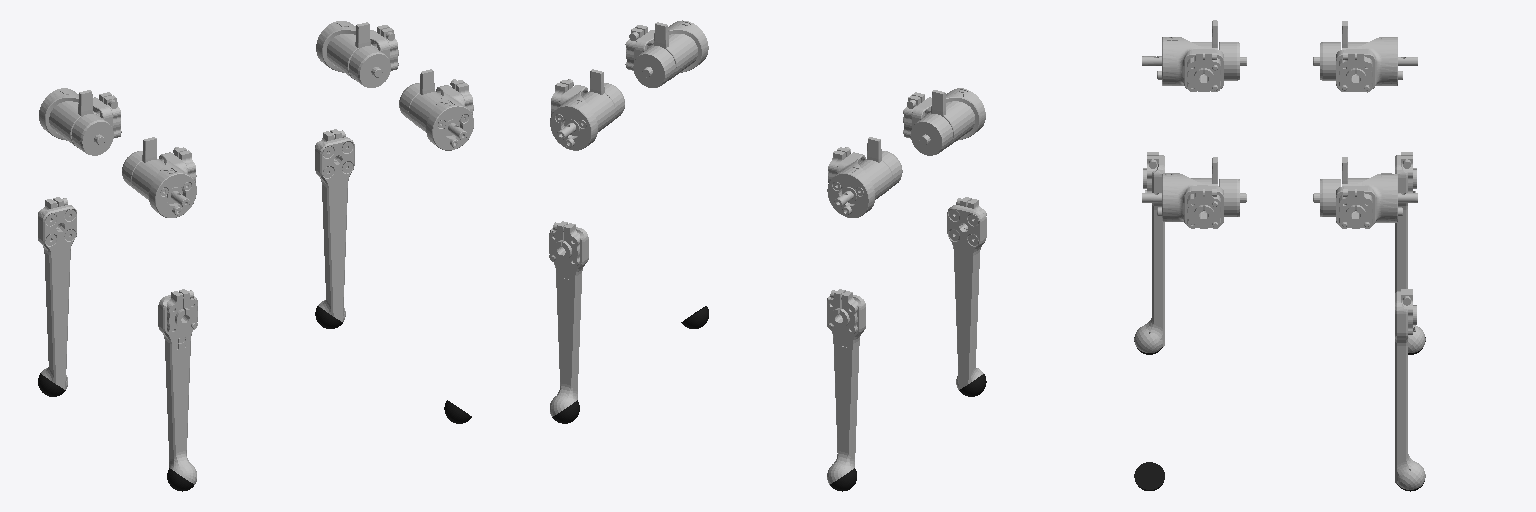
--- Facts derived from the render (not from the file) ---
The picture shows the robot from 3 angles, left to right: view 1: azimuth 30°, elevation 25°; view 2: azimuth 150°, elevation 25°; view 3: azimuth 270°, elevation 25°; orthographic projection.
Model pupperv2_description with 25 links and 24 joints (12 revolute, 12 fixed), rooted at base_link, posed all joints at 0.
Links seen in each view (by area): view 1: RR_lower_leg, FL_lower_leg, RL_lower_leg, RL_hip, FL_hip, FR_hip, RR_hip; view 2: FL_lower_leg, RR_lower_leg, RL_lower_leg, FR_hip, RR_hip, RL_hip, FL_hip; view 3: FL_hip, FR_hip, RR_hip, RL_hip, FL_lower_leg, RR_lower_leg, RL_lower_leg, FR_toe.
Boxes of the visible links, x1,y1,x2,y2 form: RR_lower_leg: (158, 289, 197, 484); FL_lower_leg: (315, 129, 354, 321); RL_lower_leg: (38, 197, 76, 389); RL_hip: (39, 88, 121, 155); FL_hip: (316, 21, 398, 87); FR_hip: (399, 69, 473, 150); RR_hip: (122, 137, 196, 217); FL_lower_leg: (549, 221, 588, 416); RR_lower_leg: (947, 197, 986, 389); RL_lower_leg: (827, 289, 865, 484); FR_hip: (625, 20, 708, 87); RR_hip: (903, 88, 985, 155); RL_hip: (827, 137, 902, 217); FL_hip: (550, 69, 624, 150); FL_hip: (1313, 157, 1417, 228); FR_hip: (1142, 157, 1246, 228); RR_hip: (1142, 20, 1246, 91); RL_hip: (1313, 21, 1417, 92); FL_lower_leg: (1395, 289, 1425, 489); RR_lower_leg: (1134, 152, 1164, 352); RL_lower_leg: (1395, 152, 1425, 352); FR_toe: (1134, 462, 1164, 490).
Bounding box of the posed robot: 0.2413 × 0.1804 × 0.2255 m (x, y, z).
Meshes: 19 distinct files referenced, 11 mesh visuals loaded (11 binary STL); not drawn: 8 (reference not matched to a file when rendering).

The robot description file, URDF, robot "pupperv2_description":
<?xml version="1.0" encoding="utf-8"?>
<!-- =================================================================================== -->
<!-- |    This document was autogenerated by xacro from pupperv2_description.urdf.xacro | -->
<!-- |    EDITING THIS FILE BY HAND IS NOT RECOMMENDED                                 | -->
<!-- =================================================================================== -->
<!-- This URDF was automatically created by SolidWorks to URDF Exporter! Originally created by Stephen Brawner ([email redacted]) 
     Commit Version: 1.5.1-0-g916b5db  Build Version: 1.5.7152.31018
     For more information, please see http://wiki.ros.org/sw_urdf_exporter -->
<robot name="pupperv2_description">
  <!-- Enable Gazebo ROS Control -->
  <gazebo>
    <plugin filename="libgazebo_ros_control.so" name="gazebo_ros_control">
      <legacyModeNS>true</legacyModeNS>
      <robotSimType>gazebo_ros_control/DefaultRobotHWSim</robotSimType>
    </plugin>
  </gazebo>
  <joint name="hokuyo_joint" type="fixed">
    <origin rpy="0 0 0" xyz="0.0 0.0 0.08661"/>
    <parent link="base_link"/>
    <child link="hokuyo_frame"/>
  </joint>
  <link name="hokuyo_frame">
    <inertial>
      <mass value="0.027"/>
      <origin rpy="0 0 0" xyz="0 0 0"/>
      <inertia ixx="2.632e-05" ixy="0" ixz="0" iyy="2.632e-05" iyz="0" izz="1.62e-05"/>
    </inertial>
    <visual>
      <origin rpy="0 0 0" xyz="0 0 0"/>
      <geometry>
        <mesh filename="package://hector_sensors_description/meshes/hokuyo_utm30lx/hokuyo_utm_30lx.dae"/>
      </geometry>
    </visual>
    <collision>
      <origin rpy="0 0 0" xyz="0 0 -0.0115"/>
      <geometry>
        <box size="0.058 0.058 0.087"/>
        <!--<mesh filename="package://hector_sensors_description/meshes/hokuyo_utm30lx/hokuyo_utm_30lx.stl"/>-->
      </geometry>
    </collision>
  </link>
  <gazebo reference="hokuyo_frame">
    <sensor name="hokuyo" type="ray">
      <always_on>true</always_on>
      <update_rate>30</update_rate>
      <pose>0 0 0 0 0 0</pose>
      <visualize>false</visualize>
      <ray>
        <scan>
          <horizontal>
            <samples>1040</samples>
            <resolution>1</resolution>
            <min_angle>2.26892802759</min_angle>
            <max_angle>-2.26892802759</max_angle>
          </horizontal>
        </scan>
        <range>
          <min>0.2</min>
          <max>30.0</max>
          <resolution>0.01</resolution>
        </range>
        <noise>
          <type>gaussian</type>
          <mean>0.0</mean>
          <stddev>0.004</stddev>
        </noise>
      </ray>
      <plugin filename="libgazebo_ros_laser.so" name="gazebo_ros_hokuyo_controller">
        <topicName>scan</topicName>
        <frameName>hokuyo_frame</frameName>
      </plugin>
    </sensor>
  </gazebo>
  <joint name="camera_joint" type="fixed">
    <origin rpy="0 0 0" xyz="0.13641 0.0 -0.05661"/>
    <parent link="base_link"/>
    <child link="camera_link"/>
  </joint>
  <link name="camera_link">
    <inertial>
      <mass value="0.02"/>
      <origin rpy="0 0 0" xyz="0 0 0"/>
      <inertia ixx="5.8083e-05" ixy="0" ixz="0" iyy="3.0833e-06" iyz="0" izz="5.9083e-05"/>
    </inertial>
    <visual>
      <origin rpy="0 0 0" xyz="0 0 0"/>
      <geometry>
        <mesh filename="package://hector_sensors_description/meshes/asus_camera/asus_camera_simple.dae"/>
      </geometry>
    </visual>
    <!--        
       <collision>
          <origin xyz="0 0 0" rpy="0 0 0" />
          <geometry>
            <box size="0.035 0.185 0.025"/>
          </geometry>
        </collision>
        -->
    <collision>
      <origin rpy="0 0 0" xyz="0 0 0"/>
      <geometry>
        <mesh filename="package://hector_sensors_description/meshes/asus_camera/asus_camera_simple.dae"/>
      </geometry>
    </collision>
  </link>
  <joint name="camera_depth_joint" type="fixed">
    <origin rpy="0 0 0" xyz="0.0 0.049 0.0"/>
    <parent link="camera_link"/>
    <child link="camera_depth_frame"/>
  </joint>
  <link name="camera_depth_frame"/>
  <joint name="camera_depth_optical_joint" type="fixed">
    <origin rpy="-1.57079632679 0.0 -1.57079632679" xyz="0 0 0"/>
    <parent link="camera_depth_frame"/>
    <child link="camera_depth_optical_frame"/>
  </joint>
  <link name="camera_depth_optical_frame"/>
  <joint name="camera_rgb_joint" type="fixed">
    <origin rpy="0 0 0" xyz="0.0 0.022 0.0"/>
    <parent link="camera_link"/>
    <child link="camera_rgb_frame"/>
  </joint>
  <link name="camera_rgb_frame"/>
  <joint name="camera_rgb_optical_joint" type="fixed">
    <origin rpy="-1.57079632679 0.0 -1.57079632679" xyz="0 0 0"/>
    <parent link="camera_rgb_frame"/>
    <child link="camera_rgb_optical_frame"/>
  </joint>
  <link name="camera_rgb_optical_frame"/>
  <!-- ASUS Xtion PRO camera for simulation -->
  <gazebo reference="camera_depth_frame">
    <sensor name="camera" type="depth">
      <update_rate>20</update_rate>
      <camera>
        <horizontal_fov>1.09606677025</horizontal_fov>
        <image>
          <format>R8G8B8</format>
          <width>640</width>
          <height>480</height>
        </image>
        <clip>
          <near>0.5</near>
          <far>9</far>
        </clip>
      </camera>
      <plugin filename="libgazebo_ros_openni_kinect.so" name="camera_camera_controller">
        <imageTopicName>camera/rgb/image_raw</imageTopicName>
        <cameraInfoTopicName>camera/rgb/camera_info</cameraInfoTopicName>
        <depthImageTopicName>camera/depth/image_raw</depthImageTopicName>
        <depthImageCameraInfoTopicName>camera/depth/camera_info</depthImageCameraInfoTopicName>
        <pointCloudTopicName>camera/depth/points</pointCloudTopicName>
        <frameName>camera_depth_optical_frame</frameName>
      </plugin>
    </sensor>
  </gazebo>
  <gazebo>
    <plugin filename="libhector_gazebo_ros_imu.so" name="imu_controller">
      <updateRate>50.0</updateRate>
      <bodyName>imu_link</bodyName>
      <topicName>imu/data</topicName>
      <accelDrift>0.005 0.005 0.005</accelDrift>
      <accelGaussianNoise>0.005 0.005 0.005</accelGaussianNoise>
      <rateDrift>0.005 0.005 0.005 </rateDrift>
      <rateGaussianNoise>0.005 0.005 0.005 </rateGaussianNoise>
      <headingDrift>0.005</headingDrift>
      <headingGaussianNoise>0.005</headingGaussianNoise>
    </plugin>
  </gazebo>
  <link name="imu_link">
    <inertial>
      <mass value="0.001"/>
      <origin rpy="0 0 0" xyz="0 0 0"/>
      <inertia ixx="1e-09" ixy="0.0" ixz="0.0" iyy="1e-09" iyz="0.0" izz="1e-09"/>
    </inertial>
  </link>
  <joint name="imu_joint" type="fixed">
    <parent link="base_link"/>
    <child link="imu_link"/>
  </joint>
  <!-- <xacro:include filename="$(find velodyne_description)/urdf/VLP-16.urdf.xacro"/>
        <xacro:VLP-16 parent="${base_name}" name="velodyne" topic="velodyne_points" hz="10" samples="1024" gpu="false" lasers="16" max_range="100">
            <origin xyz="0 0 ${base_height / 2}" rpy="0 0 0" />
        </xacro:VLP-16>
        <xacro:include filename="$(find champ_arm_description)/urdf/champ_arm.urdf.xacro" />
        <xacro:champ_arm parent="${base_name}">
            <origin xyz="0.07 0.0 ${base_height / 2}" rpy="0 0 0"/>
        </xacro:champ_arm> -->
  <gazebo>
    <plugin filename="libgazebo_ros_p3d.so" name="p3d_base_controller">
      <alwaysOn>true</alwaysOn>
      <updateRate>10.0</updateRate>
      <bodyName>base_link</bodyName>
      <topicName>odom/ground_truth</topicName>
      <gaussianNoise>0.01</gaussianNoise>
      <frameName>world</frameName>
      <xyzOffsets>0 0 0</xyzOffsets>
      <rpyOffsets>0 0 0</rpyOffsets>
    </plugin>
  </gazebo>
  <!-- Solidworks to URDF (Mostly) -->
  <link name="base_link">
    <visual>
      <origin rpy="0 0 0" xyz="0 0 0"/>
      <geometry>
        <mesh filename="package://pupperv2_description/obj_meshes/Body_Assembly_v3.obj"/>
      </geometry>
      <material name="">
        <color rgba="0.75294 0.75294 0.75294 1"/>
      </material>
    </visual>
    <collision>
      <origin rpy="0 0 0" xyz="0 0 0"/>
      <geometry>
        <mesh filename="package://pupperv2_description/obj_meshes/Body_Assembly_v3.obj"/>
      </geometry>
    </collision>
  </link>
  <link name="base_inertia">
    <inertial>
      <origin rpy="0 0 0" xyz="4.4516E-07 -2.0991E-07 3.7751E-06"/>
      <mass value="0.9839499387"/>
      <inertia ixx="0.0010122485175" ixy="3.099529761e-06" ixz="-2.411383509e-06" iyy="0.0022399212714" iyz="4.508976504e-07" izz="0.002633020902"/>
    </inertial>
  </link>
  <joint name="base_link_base_inertia" type="fixed">
    <parent link="base_link"/>
    <child link="base_inertia"/>
  </joint>
  <link name="FL_hip">
    <inertial>
      <origin rpy="0 0 0" xyz="0.01877 0.0032945 0.00038989"/>
      <mass value="0.1082783"/>
      <inertia ixx="2.0257354e-05" ixy="1.5145104e-06" ixz="8.237398e-10" iyy="9.983844e-06" iyz="2.0954648e-07" izz="1.9359964e-05"/>
    </inertial>
    <visual>
      <origin rpy="0 0 0" xyz="0 0 0"/>
      <geometry>
        <mesh filename="package://pupperv2_description/meshes/FL_hip.STL"/>
      </geometry>
      <material name="">
        <color rgba="0.75294 0.75294 0.75294 1"/>
      </material>
    </visual>
    <collision>
      <origin rpy="0 0 0" xyz="0 0 0"/>
      <geometry>
        <mesh filename="package://pupperv2_description/meshes/FL_hip.STL"/>
      </geometry>
    </collision>
  </link>
  <joint name="base_link_FL_hip" type="revolute">
    <origin rpy="0 0 0" xyz="0.036007 0.0466 0.00461"/>
    <parent link="base_link"/>
    <child link="FL_hip"/>
    <axis xyz="1 0 0"/>
    <limit effort="100" lower="-0.7854" upper="0.7854" velocity="2.5"/>
  </joint>
  <link name="FL_upper_leg">
    <inertial>
      <origin rpy="0 0 0" xyz="0.00011578 0.025203 -0.048064"/>
      <mass value="0.1419999906"/>
      <inertia ixx="6.334604904e-05" ixy="4.36923048e-10" ixz="6.769709604e-07" iyy="6.088088868e-05" iyz="7.049215668e-07" izz="1.7320803756e-05"/>
    </inertial>
    <visual>
      <origin rpy="0 0 0" xyz="0 0 0"/>
      <geometry>
        <mesh filename="package://pupperv2_description/meshes/FL_upper_leg.STL"/>
      </geometry>
      <material name="">
        <color rgba="0.75294 0.75294 0.75294 1"/>
      </material>
    </visual>
    <collision>
      <origin rpy="0 0 0" xyz="0 0 0"/>
      <geometry>
        <mesh filename="package://pupperv2_description/meshes/FL_upper_leg.STL"/>
      </geometry>
    </collision>
  </link>
  <joint name="FL_hip_FL_upper_leg" type="revolute">
    <origin rpy="0 0 0" xyz="0.01525 0.02535 0"/>
    <parent link="FL_hip"/>
    <child link="FL_upper_leg"/>
    <axis xyz="0 1 0"/>
    <limit effort="100" lower="-1.309" upper="4.4506" velocity="2.5"/>
  </joint>
  <link name="FL_lower_leg">
    <inertial>
      <origin rpy="0 0 0" xyz="0.00028051 0.0039614 -0.040452"/>
      <mass value="0.038000014"/>
      <inertia ixx="4.1639087e-05" ixy="-4.5084955e-08" ixz="5.3308669e-07" iyy="4.2155058e-05" iyz="1.53713898e-06" izz="1.25655986e-06"/>
    </inertial>
    <visual>
      <origin rpy="0 0 0" xyz="0 0 0"/>
      <geometry>
        <mesh filename="package://pupperv2_description/meshes/FL_lower_leg.STL"/>
      </geometry>
      <material name="">
        <color rgba="0.75294 0.75294 0.75294 1"/>
      </material>
    </visual>
    <collision>
      <origin rpy="0 0 0" xyz="0 0 0"/>
      <geometry>
        <mesh filename="package://pupperv2_description/meshes/FL_lower_leg.STL"/>
      </geometry>
    </collision>
  </link>
  <joint name="FL_upper_leg_FL_lower_leg" type="revolute">
    <origin rpy="0 0 0" xyz="0 0 -0.08"/>
    <parent link="FL_upper_leg"/>
    <child link="FL_lower_leg"/>
    <axis xyz="0 1 0"/>
    <limit effort="100" lower="-2.8798" upper="2.8798" velocity="2.5"/>
  </joint>
  <link name="FL_toe">
    <inertial>
      <origin rpy="0 0 0" xyz="-0.002296 2.7756E-17 -0.0027362"/>
      <mass value="0.00010000005183"/>
      <inertia ixx="2.8803263727e-09" ixy="-1.0985142994e-25" ixz="6.28211829e-10" iyy="2.353169903e-09" iyz="-5.2203463711e-26" izz="3.1018856897e-09"/>
    </inertial>
    <visual>
      <origin rpy="0 0 0" xyz="0 0 0"/>
      <geometry>
        <mesh filename="package://pupperv2_description/meshes/FL_toe.STL"/>
      </geometry>
      <material name="">
        <color rgba="0.15294 0.15294 0.15294 1"/>
      </material>
    </visual>
    <collision>
      <origin rpy="0 0 0" xyz="0 0 0"/>
      <geometry>
        <mesh filename="package://pupperv2_description/meshes/FL_toe.STL"/>
      </geometry>
    </collision>
  </link>
  <joint name="FL_lower_leg_FL_toe" type="fixed">
    <origin rpy="0 0 0" xyz="0 0.008325 -0.11"/>
    <parent link="FL_lower_leg"/>
    <child link="FL_toe"/>
    <axis xyz="0.64279 0 0.76604"/>
  </joint>
  <link name="RL_hip">
    <inertial>
      <origin rpy="0 0 0" xyz="-0.022505 0.0032945 0.00038989"/>
      <mass value="0.1082783"/>
      <inertia ixx="2.0257354e-05" ixy="1.5145104e-06" ixz="8.237398e-10" iyy="9.983844e-06" iyz="2.0954648e-07" izz="1.9359964e-05"/>
    </inertial>
    <visual>
      <origin rpy="0 0 0" xyz="0 0 0"/>
      <geometry>
        <mesh filename="package://pupperv2_description/meshes/RL_hip.STL"/>
      </geometry>
      <material name="">
        <color rgba="0.75294 0.75294 0.75294 1"/>
      </material>
    </visual>
    <collision>
      <origin rpy="0 0 0" xyz="0 0 0"/>
      <geometry>
        <mesh filename="package://pupperv2_description/meshes/RL_hip.STL"/>
      </geometry>
    </collision>
  </link>
  <joint name="base_link_RL_hip" type="revolute">
    <origin rpy="0 0 0" xyz="-0.12272 0.0466 0.00461"/>
    <parent link="base_link"/>
    <child link="RL_hip"/>
    <axis xyz="1 0 0"/>
    <limit effort="100" lower="-0.7854" upper="0.7854" velocity="2.5"/>
  </joint>
  <link name="RL_upper_leg">
    <inertial>
      <origin rpy="0 0 0" xyz="0.00011578 0.025203 -0.048064"/>
      <mass value="0.1419999906"/>
      <inertia ixx="6.334604904e-05" ixy="4.36923048e-10" ixz="6.769709604e-07" iyy="6.088088868e-05" iyz="7.049215668e-07" izz="1.7320803756e-05"/>
    </inertial>
    <visual>
      <origin rpy="0 0 0" xyz="0 0 0"/>
      <geometry>
        <mesh filename="package://pupperv2_description/meshes/RL_upper_leg.STL"/>
      </geometry>
      <material name="">
        <color rgba="0.75294 0.75294 0.75294 1"/>
      </material>
    </visual>
    <collision>
      <origin rpy="0 0 0" xyz="0 0 0"/>
      <geometry>
        <mesh filename="package://pupperv2_description/meshes/RL_upper_leg.STL"/>
      </geometry>
    </collision>
  </link>
  <joint name="RL_hip_RL_upper_leg" type="revolute">
    <origin rpy="0 0.0011305 0" xyz="-0.026025 0.02535 0"/>
    <parent link="RL_hip"/>
    <child link="RL_upper_leg"/>
    <axis xyz="0 1 0"/>
    <limit effort="100" lower="-1.309" upper="4.4506" velocity="2.5"/>
  </joint>
  <link name="RL_lower_leg">
    <inertial>
      <origin rpy="0 0 0" xyz="0.00028051 0.0039614 -0.040452"/>
      <mass value="0.038000014"/>
      <inertia ixx="4.1639087e-05" ixy="-4.5084955e-08" ixz="5.3308669e-07" iyy="4.2155058e-05" iyz="1.53713898e-06" izz="1.25655986e-06"/>
    </inertial>
    <visual>
      <origin rpy="0 0 0" xyz="0 0 0"/>
      <geometry>
        <mesh filename="package://pupperv2_description/meshes/RL_lower_leg.STL"/>
      </geometry>
      <material name="">
        <color rgba="0.75294 0.75294 0.75294 1"/>
      </material>
    </visual>
    <collision>
      <origin rpy="0 0 0" xyz="0 0 0"/>
      <geometry>
        <mesh filename="package://pupperv2_description/meshes/RL_lower_leg.STL"/>
      </geometry>
    </collision>
  </link>
  <joint name="RL_upper_leg_RL_lower_leg" type="revolute">
    <origin rpy="0 -0.0011305 0" xyz="0 0 -0.08"/>
    <parent link="RL_upper_leg"/>
    <child link="RL_lower_leg"/>
    <axis xyz="0 1 0"/>
    <limit effort="100" lower="-2.8798" upper="2.8798" velocity="2.5"/>
  </joint>
  <link name="RL_toe">
    <inertial>
      <origin rpy="0 0 0" xyz="-0.002296 0 -0.0027362"/>
      <mass value="0.00010000005183"/>
      <inertia ixx="2.8803263727e-09" ixy="-5.97823394e-26" ixz="6.28211829e-10" iyy="2.353169903e-09" iyz="-5.1293468212e-26" izz="3.1018856897e-09"/>
    </inertial>
    <visual>
      <origin rpy="0 0 0" xyz="0 0 0"/>
      <geometry>
        <mesh filename="package://pupperv2_description/meshes/RL_toe.STL"/>
      </geometry>
      <material name="">
        <color rgba="0.15294 0.15294 0.15294 1"/>
      </material>
    </visual>
    <collision>
      <origin rpy="0 0 0" xyz="0 0 0"/>
      <geometry>
        <mesh filename="package://pupperv2_description/meshes/RL_toe.STL"/>
      </geometry>
    </collision>
  </link>
  <joint name="RL_lower_leg_RL_toe" type="fixed">
    <origin rpy="0 0 0" xyz="0 0.008325 -0.11"/>
    <parent link="RL_lower_leg"/>
    <child link="RL_toe"/>
    <axis xyz="0.64279 0 0.76604"/>
  </joint>
  <link name="FR_hip">
    <inertial>
      <origin rpy="0 0 0" xyz="0.018798 -0.0032741 0.00039709"/>
      <mass value="0.10839322"/>
      <inertia ixx="2.0250256e-05" ixy="-1.5113332e-06" ixz="6.264492e-10" iyy="9.98452e-06" iyz="-2.1263242e-07" izz="1.936571e-05"/>
    </inertial>
    <visual>
      <origin rpy="0 0 0" xyz="0 0 0"/>
      <geometry>
        <mesh filename="package://pupperv2_description/meshes/FR_hip.STL"/>
      </geometry>
      <material name="">
        <color rgba="0.75294 0.75294 0.75294 1"/>
      </material>
    </visual>
    <collision>
      <origin rpy="0 0 0" xyz="0 0 0"/>
      <geometry>
        <mesh filename="package://pupperv2_description/meshes/FR_hip.STL"/>
      </geometry>
    </collision>
  </link>
  <joint name="base_link_FR_hip" type="revolute">
    <origin rpy="0 0 0" xyz="0.035885 -0.0474 0.00461"/>
    <parent link="base_link"/>
    <child link="FR_hip"/>
    <axis xyz="1 0 0"/>
    <limit effort="100" lower="-0.7854" upper="0.7854" velocity="2.5"/>
  </joint>
  <link name="FR_upper_leg">
    <inertial>
      <origin rpy="0 0 0" xyz="-0.00011578 -0.025203 -0.048064"/>
      <mass value="0.1419999906"/>
      <inertia ixx="6.334604904e-05" ixy="4.36923048e-10" ixz="-6.769709604e-07" iyy="6.088088868e-05" iyz="-7.049215668e-07" izz="1.7320803756e-05"/>
    </inertial>
    <visual>
      <origin rpy="0 0 0" xyz="0 0 0"/>
      <geometry>
        <mesh filename="package://pupperv2_description/meshes/FR_upper_leg.STL"/>
      </geometry>
      <material name="">
        <color rgba="0.75294 0.75294 0.75294 1"/>
      </material>
    </visual>
    <collision>
      <origin rpy="0 0 0" xyz="0 0 0"/>
      <geometry>
        <mesh filename="package://pupperv2_description/meshes/FR_upper_leg.STL"/>
      </geometry>
    </collision>
  </link>
  <joint name="FR_hip_FR_upper_leg" type="revolute">
    <origin rpy="0 0 0" xyz="0.015252 -0.02535 0"/>
    <parent link="FR_hip"/>
    <child link="FR_upper_leg"/>
    <axis xyz="0 1 0"/>
    <limit effort="100" lower="-4.4506" upper="1.309" velocity="2.5"/>
  </joint>
  <link name="FR_lower_leg">
    <inertial>
      <origin rpy="0 0 0" xyz="0.00028375 -0.0039771 -0.040393"/>
      <mass value="0.038052293"/>
      <inertia ixx="4.1625449e-05" ixy="4.5137234e-08" ixz="5.3258663e-07" iyy="4.214142e-05" iyz="-1.5385937e-06" izz="1.25771909e-06"/>
    </inertial>
    <visual>
      <origin rpy="0 0 0" xyz="0 0 0"/>
      <geometry>
        <mesh filename="package://pupperv2_description/meshes/FR_lower_leg.STL"/>
      </geometry>
      <material name="">
        <color rgba="0.75294 0.75294 0.75294 1"/>
      </material>
    </visual>
    <collision>
      <origin rpy="0 0 0" xyz="0 0 0"/>
      <geometry>
        <mesh filename="package://pupperv2_description/meshes/FR_lower_leg.STL"/>
      </geometry>
    </collision>
  </link>
  <joint name="FR_upper_leg_FR_lower_leg" type="revolute">
    <origin rpy="0 0 0" xyz="0 0 -0.08"/>
    <parent link="FR_upper_leg"/>
    <child link="FR_lower_leg"/>
    <axis xyz="0 1 0"/>
    <limit effort="100" lower="-2.8798" upper="2.8798" velocity="2.5"/>
  </joint>
  <link name="FR_toe">
    <inertial>
      <origin rpy="0 0 0" xyz="-0.002296 6.9389E-18 -0.0027362"/>
      <mass value="0.00010000005183"/>
      <inertia ixx="2.8803263727e-09" ixy="3.4282022299e-26" ixz="6.28211829e-10" iyy="2.353169903e-09" iyz="5.4341151984e-26" izz="3.1018856897e-09"/>
    </inertial>
    <visual>
      <origin rpy="0 0 0" xyz="0 0 0"/>
      <geometry>
        <mesh filename="package://pupperv2_description/meshes/FR_toe.STL"/>
      </geometry>
      <material name="">
        <color rgba="0.15294 0.15294 0.15294 1"/>
      </material>
    </visual>
    <collision>
      <origin rpy="0 0 0" xyz="0 0 0"/>
      <geometry>
        <mesh filename="package://pupperv2_description/meshes/FR_toe.STL"/>
      </geometry>
    </collision>
  </link>
  <joint name="FR_lower_leg_FR_toe" type="fixed">
    <origin rpy="0 0 0" xyz="0 -0.008325 -0.11"/>
    <parent link="FR_lower_leg"/>
    <child link="FR_toe"/>
    <axis xyz="0.64279 0 0.76604"/>
  </joint>
  <link name="RR_hip">
    <inertial>
      <origin rpy="0 0 0" xyz="-0.022479 -0.0032741 0.00039709"/>
      <mass value="0.10839322"/>
      <inertia ixx="2.0250256e-05" ixy="-1.5113332e-06" ixz="6.264492e-10" iyy="9.98452e-06" iyz="-2.1263242e-07" izz="1.936571e-05"/>
    </inertial>
    <visual>
      <origin rpy="0 0 0" xyz="0 0 0"/>
      <geometry>
        <mesh filename="package://pupperv2_description/meshes/RR_hip.STL"/>
      </geometry>
      <material name="">
        <color rgba="0.75294 0.75294 0.75294 1"/>
      </material>
    </visual>
    <collision>
      <origin rpy="0 0 0" xyz="0 0 0"/>
      <geometry>
        <mesh filename="package://pupperv2_description/meshes/RR_hip.STL"/>
      </geometry>
    </collision>
  </link>
  <joint name="base_link_RR_hip" type="revolute">
    <origin rpy="0 0 0" xyz="-0.12284 -0.0474 0.00461"/>
    <parent link="base_link"/>
    <child link="RR_hip"/>
    <axis xyz="1 0 0"/>
    <limit effort="100" lower="-0.7854" upper="0.7854" velocity="2.5"/>
  </joint>
  <link name="RR_upper_leg">
    <inertial>
      <origin rpy="0 0 0" xyz="-0.00011578 -0.025203 -0.048064"/>
      <mass value="0.1419999906"/>
      <inertia ixx="6.334604904e-05" ixy="4.36923048e-10" ixz="-6.769709604e-07" iyy="6.088088868e-05" iyz="-7.049215668e-07" izz="1.7320803756e-05"/>
    </inertial>
    <visual>
      <origin rpy="0 0 0" xyz="0 0 0"/>
      <geometry>
        <mesh filename="package://pupperv2_description/meshes/RR_upper_leg.STL"/>
      </geometry>
      <material name="">
        <color rgba="0.75294 0.75294 0.75294 1"/>
      </material>
    </visual>
    <collision>
      <origin rpy="0 0 0" xyz="0 0 0"/>
      <geometry>
        <mesh filename="package://pupperv2_description/meshes/RR_upper_leg.STL"/>
      </geometry>
    </collision>
  </link>
  <joint name="RR_hip_RR_upper_leg" type="revolute">
    <origin rpy="0 0 0" xyz="-0.026025 -0.02535 0"/>
    <parent link="RR_hip"/>
    <child link="RR_upper_leg"/>
    <axis xyz="0 1 0"/>
    <limit effort="100" lower="-4.4506" upper="1.309" velocity="2.5"/>
  </joint>
  <link name="RR_lower_leg">
    <inertial>
      <origin rpy="0 0 0" xyz="0.00028375 -0.0039771 -0.040393"/>
      <mass value="0.038052293"/>
      <inertia ixx="4.1625449e-05" ixy="4.5137234e-08" ixz="5.3258663e-07" iyy="4.214142e-05" iyz="-1.5385937e-06" izz="1.25771909e-06"/>
    </inertial>
    <visual>
      <origin rpy="0 0 0" xyz="0 0 0"/>
      <geometry>
        <mesh filename="package://pupperv2_description/meshes/RR_lower_leg.STL"/>
      </geometry>
      <material name="">
        <color rgba="0.75294 0.75294 0.75294 1"/>
      </material>
    </visual>
    <collision>
      <origin rpy="0 0 0" xyz="0 0 0"/>
      <geometry>
        <mesh filename="package://pupperv2_description/meshes/RR_lower_leg.STL"/>
      </geometry>
    </collision>
  </link>
  <joint name="RR_upper_leg_RR_lower_leg" type="revolute">
    <origin rpy="0 0 0" xyz="0 0 -0.08"/>
    <parent link="RR_upper_leg"/>
    <child link="RR_lower_leg"/>
    <axis xyz="0 1 0"/>
    <limit effort="100" lower="-2.8798" upper="2.8798" velocity="2.5"/>
  </joint>
  <link name="RR_toe">
    <inertial>
      <origin rpy="0 0 0" xyz="-0.002296 0 -0.0027362"/>
      <mass value="0.00010000005183"/>
      <inertia ixx="2.8803263727e-09" ixy="3.6476067306e-26" ixz="6.28211829e-10" iyy="2.353169903e-09" iyz="1.3509593167e-25" izz="3.1018856897e-09"/>
    </inertial>
    <visual>
      <origin rpy="0 0 0" xyz="0 0 0"/>
      <geometry>
        <mesh filename="package://pupperv2_description/meshes/RR_toe.STL"/>
      </geometry>
      <material name="">
        <color rgba="0.15294 0.15294 0.15294 1"/>
      </material>
    </visual>
    <collision>
      <origin rpy="0 0 0" xyz="0 0 0"/>
      <geometry>
        <mesh filename="package://pupperv2_description/meshes/RR_toe.STL"/>
      </geometry>
    </collision>
  </link>
  <joint name="RR_lower_leg_RR_toe" type="fixed">
    <origin rpy="0 0 0" xyz="0 -0.008325 -0.11"/>
    <parent link="RR_lower_leg"/>
    <child link="RR_toe"/>
    <axis xyz="0 0 0"/>
  </joint>
  <transmission name="base_link_FL_hip_trans">
    <type>transmission_interface/SimpleTransmission</type>
    <joint name="base_link_FL_hip">
      <hardwareInterface>hardware_interface/EffortJointInterface</hardwareInterface>
    </joint>
    <actuator name="base_link_FL_hip_motor">
      <hardwareInterface>hardware_interface/EffortJointInterfacce</hardwareInterface>
      <mechanicalReduction>1</mechanicalReduction>
    </actuator>
  </transmission>
  <transmission name="FL_hip_FL_upper_leg_trans">
    <type>transmission_interface/SimpleTransmission</type>
    <joint name="FL_hip_FL_upper_leg">
      <hardwareInterface>hardware_interface/EffortJointInterface</hardwareInterface>
    </joint>
    <actuator name="FL_hip_FL_upper_leg_motor">
      <hardwareInterface>hardware_interface/EffortJointInterfacce</hardwareInterface>
      <mechanicalReduction>1</mechanicalReduction>
    </actuator>
  </transmission>
  <transmission name="FL_upper_leg_FL_lower_leg_trans">
    <type>transmission_interface/SimpleTransmission</type>
    <joint name="FL_upper_leg_FL_lower_leg">
      <hardwareInterface>hardware_interface/EffortJointInterface</hardwareInterface>
    </joint>
    <actuator name="FL_upper_leg_FL_lower_leg_motor">
      <hardwareInterface>hardware_interface/EffortJointInterfacce</hardwareInterface>
      <mechanicalReduction>1</mechanicalReduction>
    </actuator>
  </transmission>
  <transmission name="base_link_FR_hip_trans">
    <type>transmission_interface/SimpleTransmission</type>
    <joint name="base_link_FR_hip">
      <hardwareInterface>hardware_interface/EffortJointInterface</hardwareInterface>
    </joint>
    <actuator name="base_link_FR_hip_motor">
      <hardwareInterface>hardware_interface/EffortJointInterfacce</hardwareInterface>
      <mechanicalReduction>1</mechanicalReduction>
    </actuator>
  </transmission>
  <transmission name="FR_hip_FR_upper_leg_trans">
    <type>transmission_interface/SimpleTransmission</type>
    <joint name="FR_hip_FR_upper_leg">
      <hardwareInterface>hardware_interface/EffortJointInterface</hardwareInterface>
    </joint>
    <actuator name="FR_hip_FR_upper_leg_motor">
      <hardwareInterface>hardware_interface/EffortJointInterfacce</hardwareInterface>
      <mechanicalReduction>1</mechanicalReduction>
    </actuator>
  </transmission>
  <transmission name="FR_upper_leg_FR_lower_leg_trans">
    <type>transmission_interface/SimpleTransmission</type>
    <joint name="FR_upper_leg_FR_lower_leg">
      <hardwareInterface>hardware_interface/EffortJointInterface</hardwareInterface>
    </joint>
    <actuator name="FR_upper_leg_FR_lower_leg_motor">
      <hardwareInterface>hardware_interface/EffortJointInterfacce</hardwareInterface>
      <mechanicalReduction>1</mechanicalReduction>
    </actuator>
  </transmission>
  <transmission name="base_link_RL_hip_trans">
    <type>transmission_interface/SimpleTransmission</type>
    <joint name="base_link_RL_hip">
      <hardwareInterface>hardware_interface/EffortJointInterface</hardwareInterface>
    </joint>
    <actuator name="base_link_RL_hip_motor">
      <hardwareInterface>hardware_interface/EffortJointInterfacce</hardwareInterface>
      <mechanicalReduction>1</mechanicalReduction>
    </actuator>
  </transmission>
  <transmission name="RL_hip_RL_upper_leg_trans">
    <type>transmission_interface/SimpleTransmission</type>
    <joint name="RL_hip_RL_upper_leg">
      <hardwareInterface>hardware_interface/EffortJointInterface</hardwareInterface>
    </joint>
    <actuator name="RL_hip_RL_upper_leg_motor">
      <hardwareInterface>hardware_interface/EffortJointInterfacce</hardwareInterface>
      <mechanicalReduction>1</mechanicalReduction>
    </actuator>
  </transmission>
  <transmission name="RL_upper_leg_RL_lower_leg_trans">
    <type>transmission_interface/SimpleTransmission</type>
    <joint name="RL_upper_leg_RL_lower_leg">
      <hardwareInterface>hardware_interface/EffortJointInterface</hardwareInterface>
    </joint>
    <actuator name="RL_upper_leg_RL_lower_leg_motor">
      <hardwareInterface>hardware_interface/EffortJointInterfacce</hardwareInterface>
      <mechanicalReduction>1</mechanicalReduction>
    </actuator>
  </transmission>
  <transmission name="base_link_RR_hip_trans">
    <type>transmission_interface/SimpleTransmission</type>
    <joint name="base_link_RR_hip">
      <hardwareInterface>hardware_interface/EffortJointInterface</hardwareInterface>
    </joint>
    <actuator name="base_link_RR_hip_motor">
      <hardwareInterface>hardware_interface/EffortJointInterfacce</hardwareInterface>
      <mechanicalReduction>1</mechanicalReduction>
    </actuator>
  </transmission>
  <transmission name="RR_hip_RR_upper_leg_trans">
    <type>transmission_interface/SimpleTransmission</type>
    <joint name="RR_hip_RR_upper_leg">
      <hardwareInterface>hardware_interface/EffortJointInterface</hardwareInterface>
    </joint>
    <actuator name="RR_hip_RR_upper_leg_motor">
      <hardwareInterface>hardware_interface/EffortJointInterfacce</hardwareInterface>
      <mechanicalReduction>1</mechanicalReduction>
    </actuator>
  </transmission>
  <transmission name="RR_upper_leg_RR_lower_leg_trans">
    <type>transmission_interface/SimpleTransmission</type>
    <joint name="RR_upper_leg_RR_lower_leg">
      <hardwareInterface>hardware_interface/EffortJointInterface</hardwareInterface>
    </joint>
    <actuator name="RR_upper_leg_RR_lower_leg_motor">
      <hardwareInterface>hardware_interface/EffortJointInterfacce</hardwareInterface>
      <mechanicalReduction>1</mechanicalReduction>
    </actuator>
  </transmission>
  <gazebo reference="FL_toe">
    <kp>1000000</kp>
    <kd>1.0</kd>
    <mu1>0.8</mu1>
    <mu2>0.8</mu2>
    <maxVel>0.0</maxVel>
    <minDepth>0.001</minDepth>
  </gazebo>
  <gazebo reference="RL_toe">
    <kp>1000000</kp>
    <kd>1.0</kd>
    <mu1>0.8</mu1>
    <mu2>0.8</mu2>
    <maxVel>0.0</maxVel>
    <minDepth>0.001</minDepth>
  </gazebo>
  <gazebo reference="FR_toe">
    <kp>1000000</kp>
    <kd>1.0</kd>
    <mu1>0.8</mu1>
    <mu2>0.8</mu2>
    <maxVel>0.0</maxVel>
    <minDepth>0.001</minDepth>
  </gazebo>
  <gazebo reference="RR_toe">
    <kp>1000000</kp>
    <kd>1.0</kd>
    <mu1>0.8</mu1>
    <mu2>0.8</mu2>
    <maxVel>0.0</maxVel>
    <minDepth>0.001</minDepth>
  </gazebo>
</robot>
